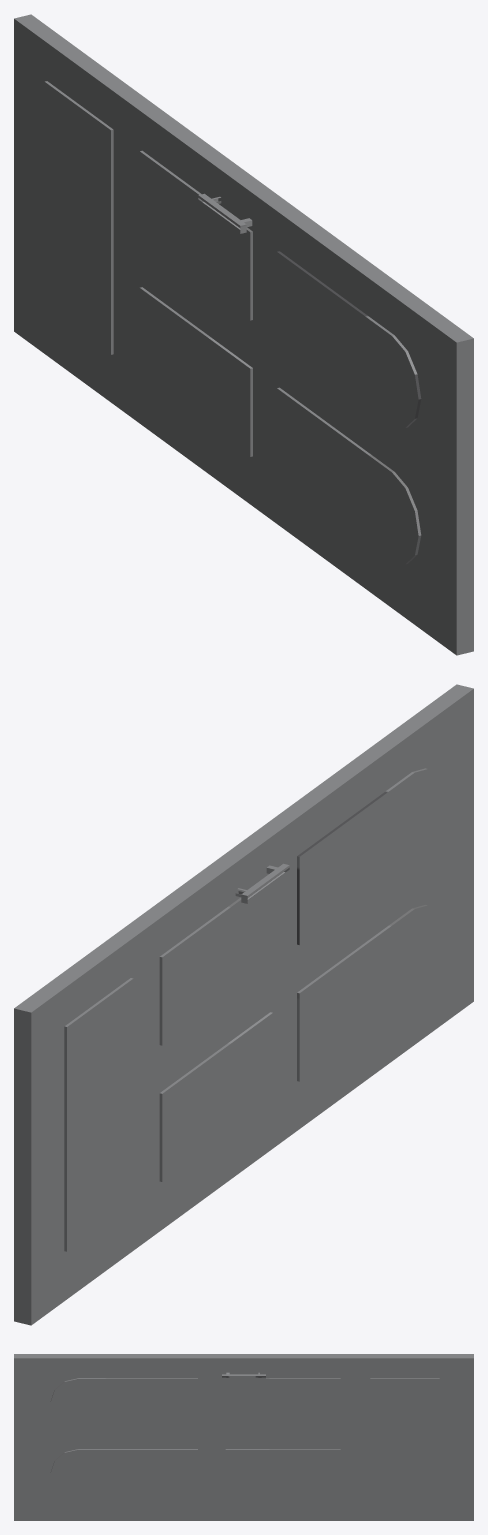
3 renders of one model, top to bottom at view 1: azimuth 30°, elevation 25°; view 2: azimuth 150°, elevation 25°; view 3: azimuth 270°, elevation 25°, orthographic. The views are drawn at different scales.
Bounding box in the file's own units: 0.128 × 0.78 × 2.
